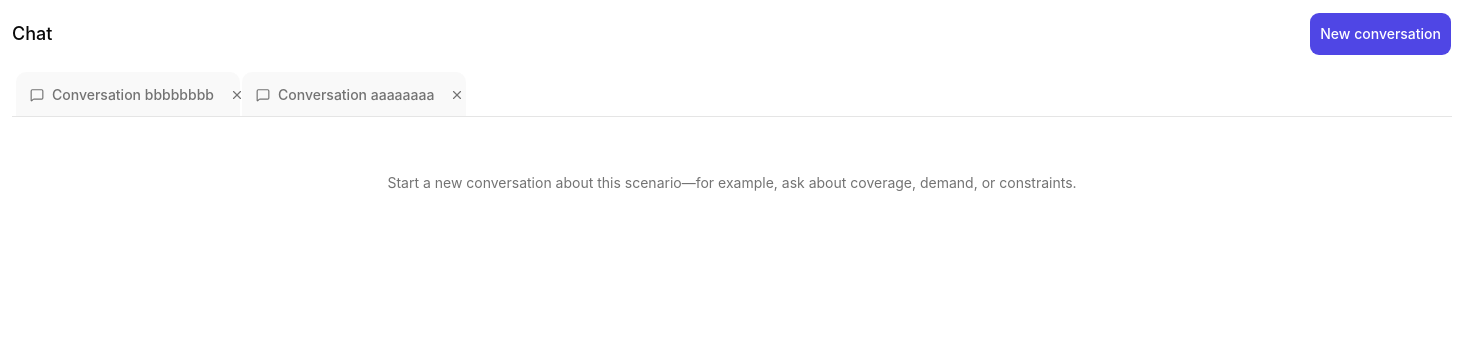
Scenario: ChatView › surfaces a failed create instead of discarding the rejection
Click the button "New conversation" at (1381, 34), box [1309,12,1452,56]
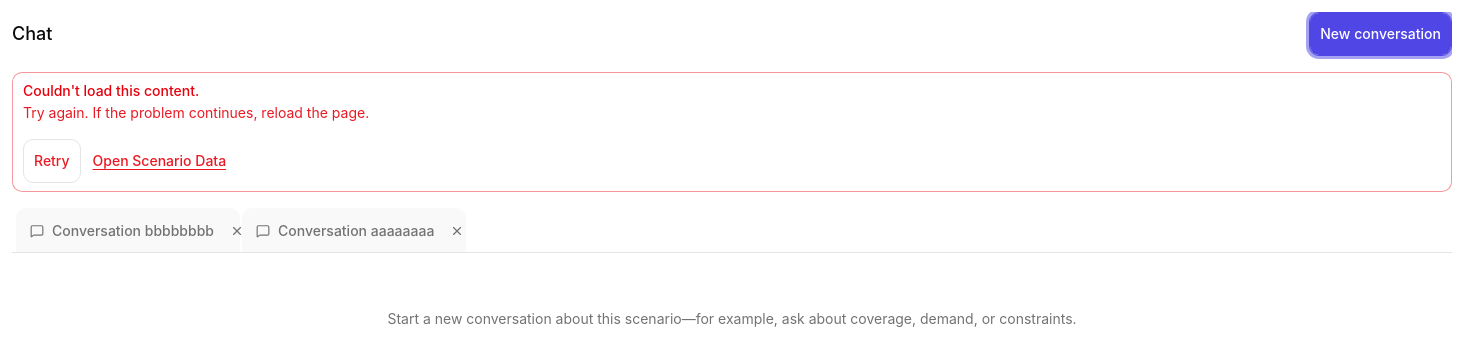
Check: the message shows "Couldn't load this content.", box [23,82,199,99]
